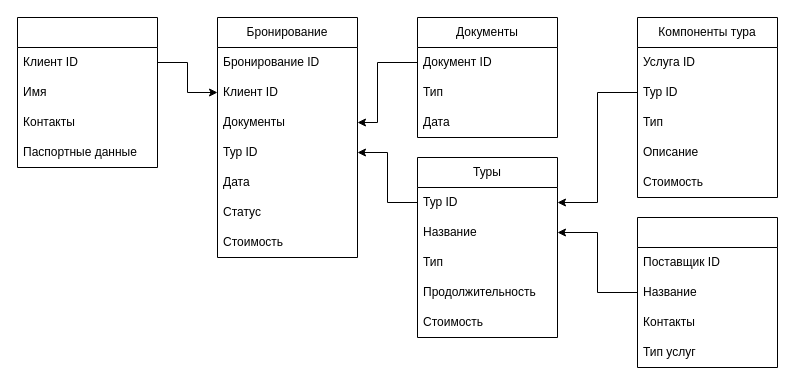
The diagram is 795 pixels wide and 385 high, and some of its shapes have lost their labels. Each missing label, with the box of its shape:
Клиенты: (16, 16, 158, 168)
Поставщики услуг: (636, 216, 778, 368)
